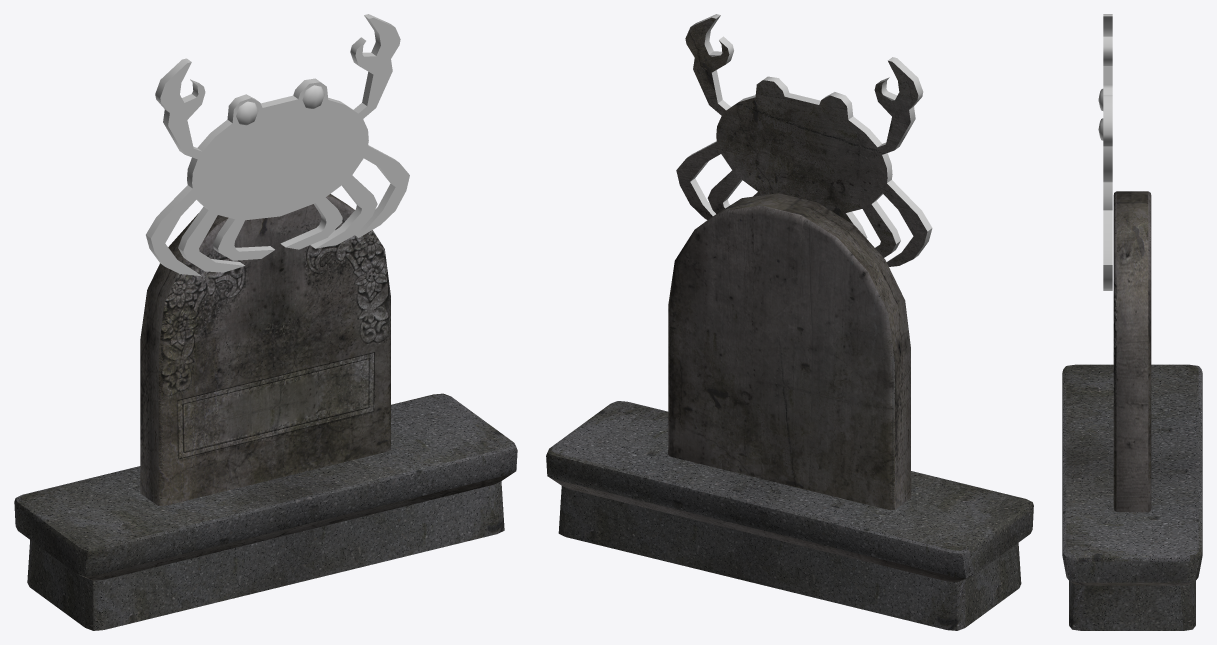
File: cemetary_crabgraves.FBX
3 views of the same model, side by side, from view 1: azimuth 30°, elevation 25°; view 2: azimuth 150°, elevation 25°; view 3: azimuth 270°, elevation 25° (orthographic). The views are drawn at different scales.
Parts seen in each view (by area): view 1: gravestone; view 2: gravestone; view 3: gravestone.
Boxes of the visible parts, bbox=[...] form: gravestone: bbox=[14, 14, 517, 630]; gravestone: bbox=[546, 14, 1033, 630]; gravestone: bbox=[1062, 14, 1202, 630].
Bounding box in the file's own units: 61.55 × 71.84 × 18.68.
